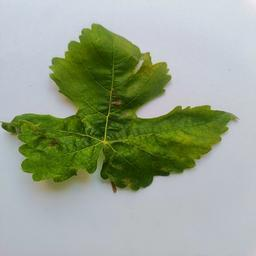Powdery-Mildew: (124, 128, 159, 160), (170, 129, 195, 153), (114, 110, 136, 123), (113, 99, 124, 110)
